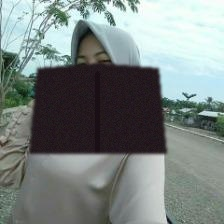Cadar_Niqab: (29, 18, 166, 153)
